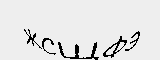Ж: (19, 27, 40, 50)
С: (40, 37, 57, 56)
Ф: (102, 33, 127, 60)
Щ: (57, 40, 99, 60)
Э: (125, 28, 144, 56)
